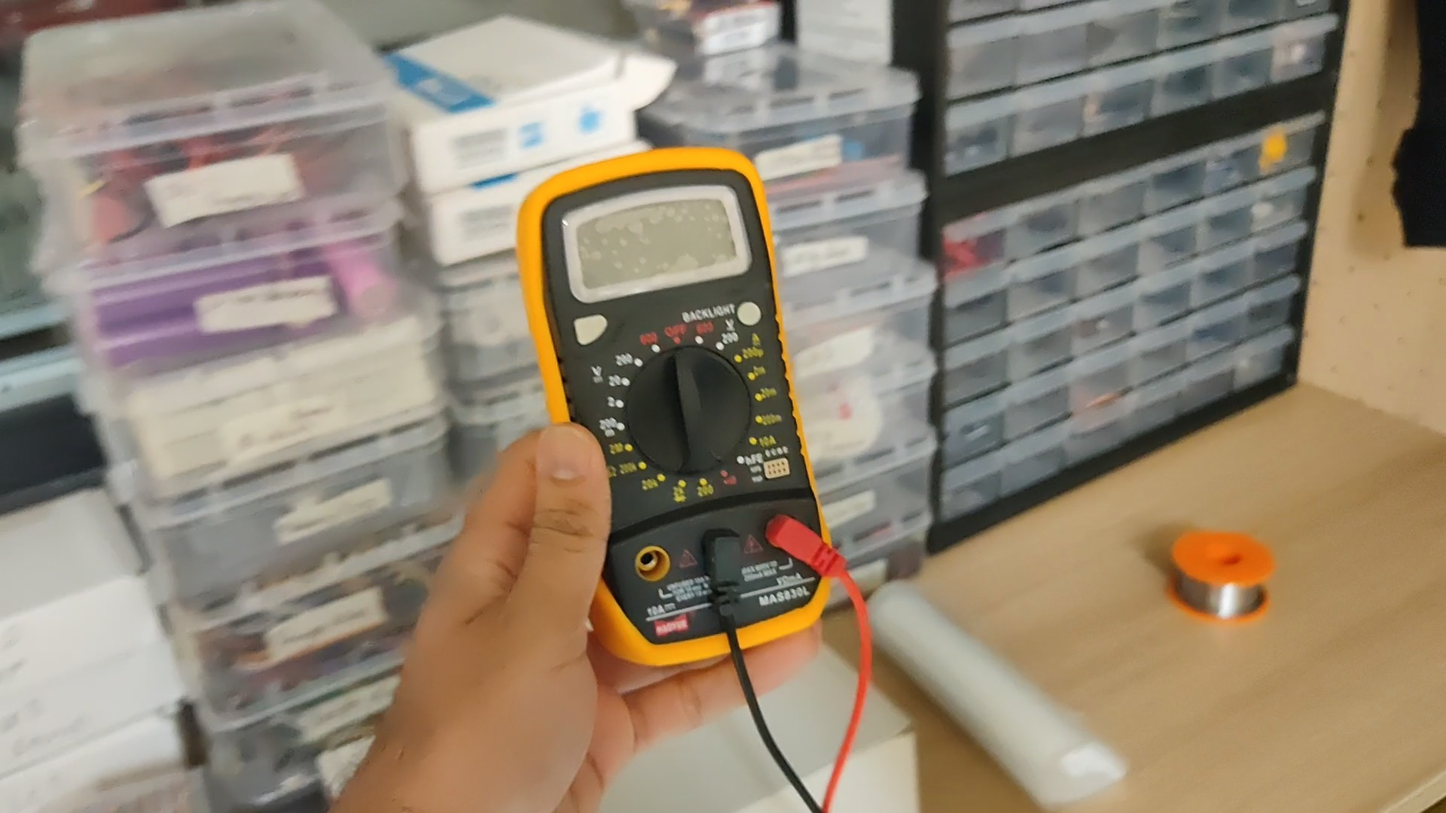multimeter: (516, 147, 836, 664)
